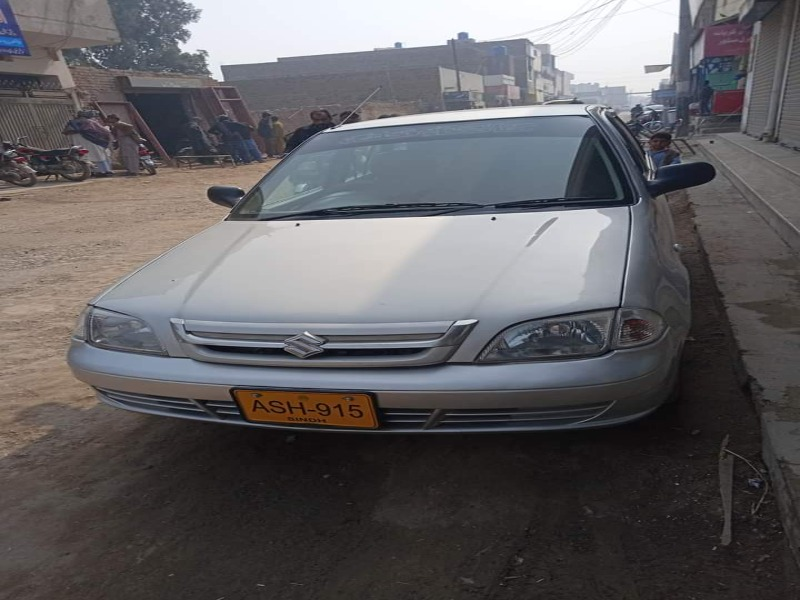License Plate: (227, 382, 383, 434)
